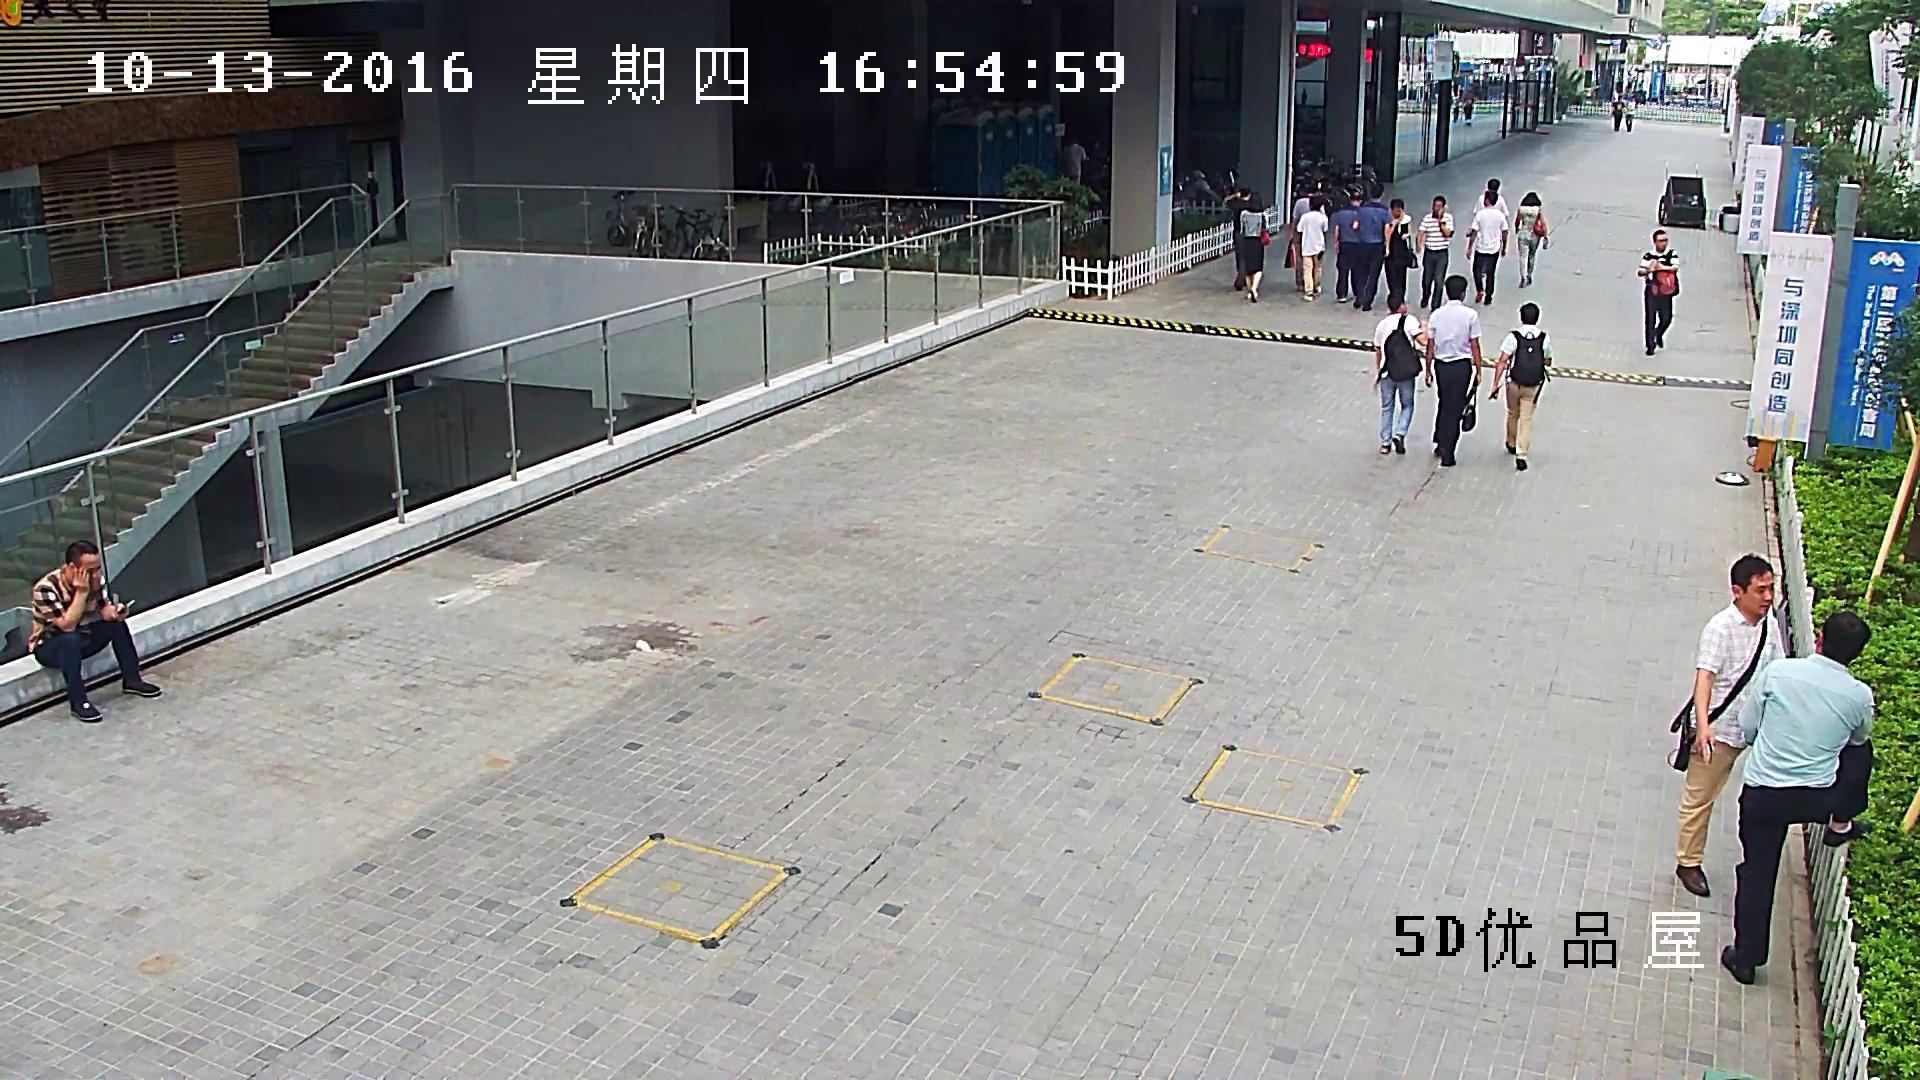person: (1720, 610, 1875, 986), (1666, 550, 1787, 898), (27, 540, 162, 723), (1487, 302, 1552, 470), (1425, 274, 1481, 466), (1373, 291, 1428, 454), (1637, 229, 1680, 356), (1351, 183, 1392, 311), (1466, 191, 1509, 305), (1415, 194, 1454, 313), (1284, 182, 1325, 293), (1514, 192, 1552, 288), (1384, 198, 1418, 304), (1240, 191, 1271, 302), (1297, 195, 1328, 301), (1332, 191, 1360, 302), (1224, 187, 1251, 291), (1472, 177, 1509, 223), (1062, 135, 1089, 182), (1612, 95, 1625, 132), (1624, 97, 1635, 133)
